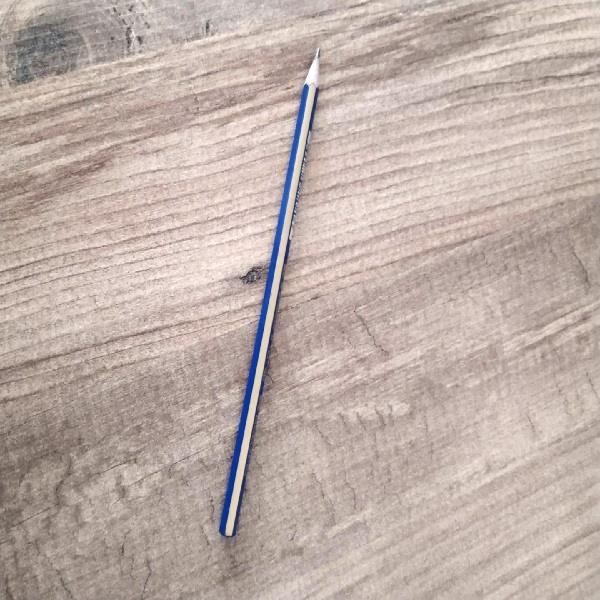pencil: (220, 49, 319, 535)
